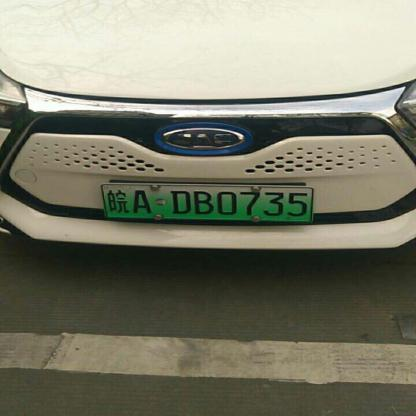lp: (101, 184, 312, 221)
